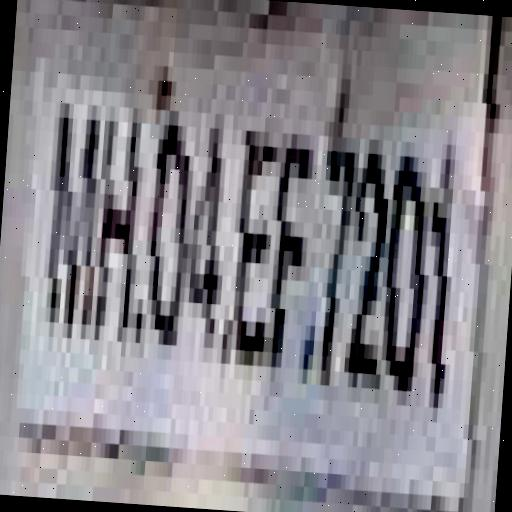number plate: (0, 26, 499, 484)
